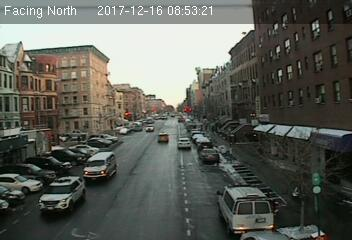car: (198, 147, 220, 163), (176, 137, 191, 149), (157, 132, 169, 143)
police: (216, 182, 275, 232), (37, 174, 87, 216)
truck: (84, 152, 116, 181)
